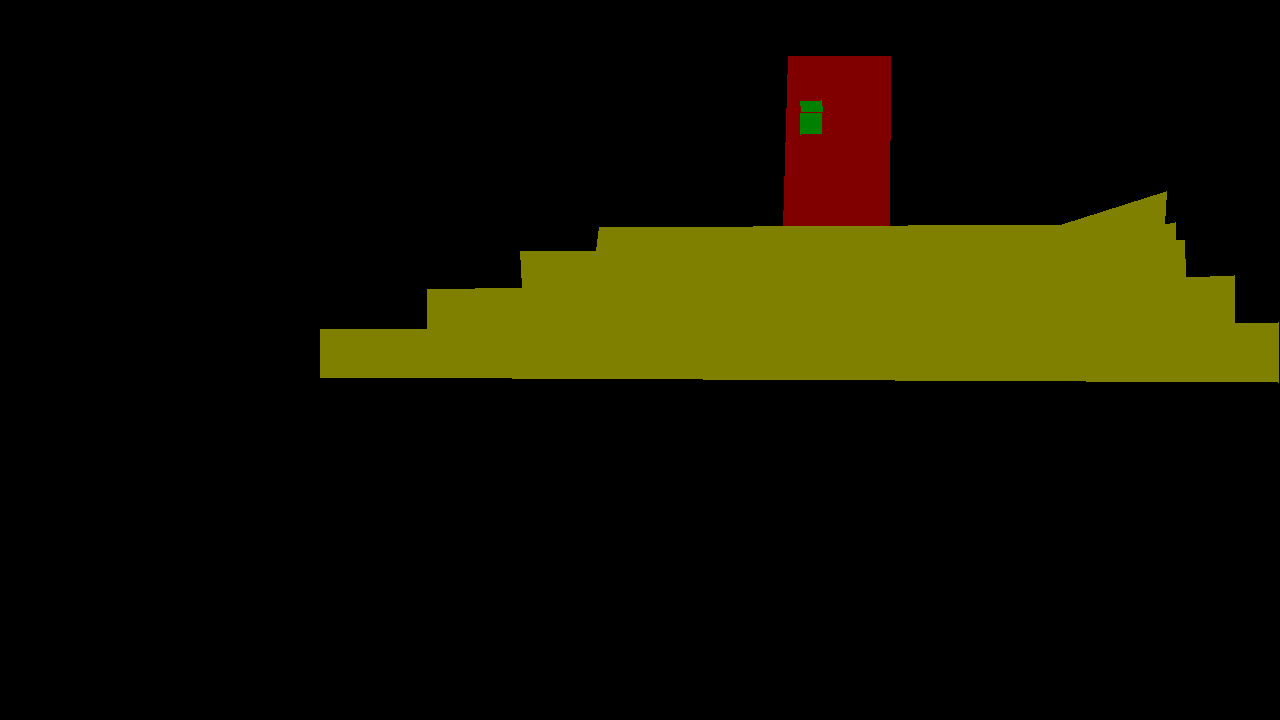door: (783, 56, 890, 227)
sign: (800, 113, 821, 134), (800, 100, 822, 111)
stair: (320, 191, 1278, 382)
